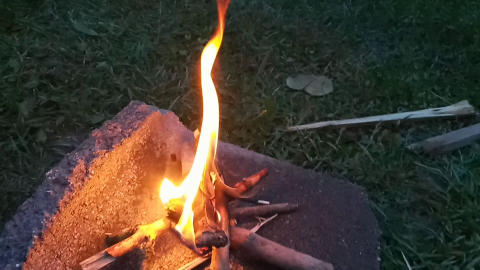fire: (177, 2, 228, 232)
